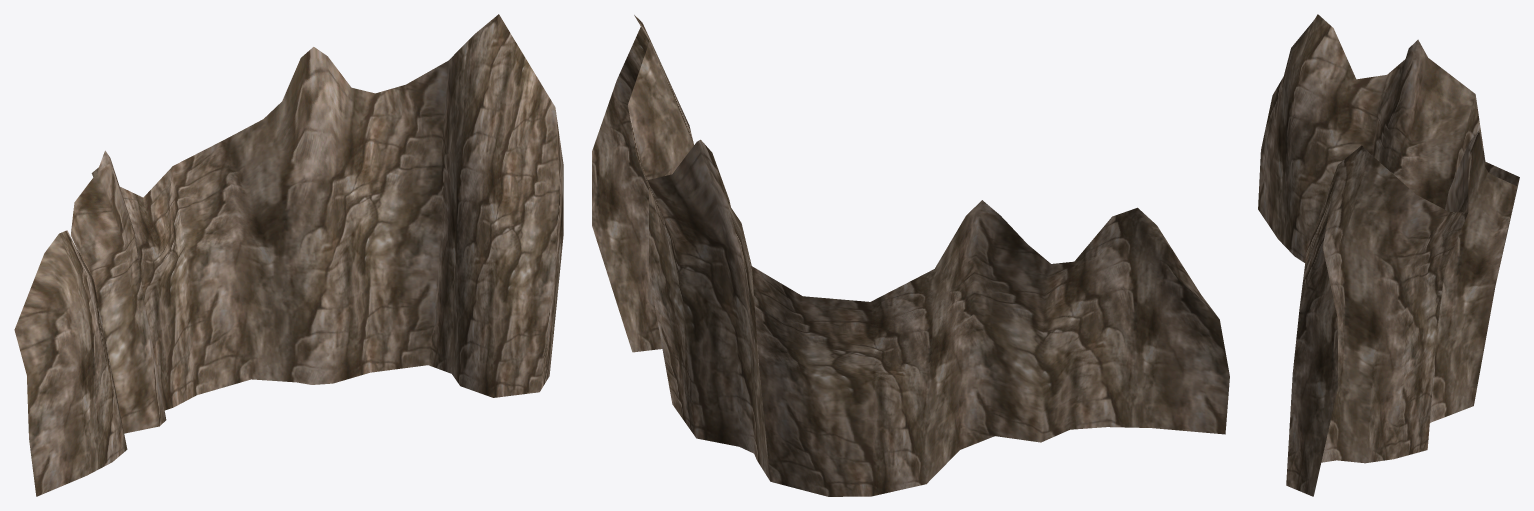
File: OVERHILL_A_01_MOUNTAIN_BACKDROP_01.fbx
3 renders of one model, left to right at view 1: azimuth 30°, elevation 25°; view 2: azimuth 150°, elevation 25°; view 3: azimuth 270°, elevation 25°, orthographic. The views are drawn at different scales.
Parts seen in each view (by area): view 1: OVERHILL_A_01_MOUNTAIN_BACKDROP_01; view 2: OVERHILL_A_01_MOUNTAIN_BACKDROP_01; view 3: OVERHILL_A_01_MOUNTAIN_BACKDROP_01.
Part boxes in pixels (box(x1,y1,x2,y2)): OVERHILL_A_01_MOUNTAIN_BACKDROP_01: box(14, 14, 563, 496); OVERHILL_A_01_MOUNTAIN_BACKDROP_01: box(592, 15, 1229, 496); OVERHILL_A_01_MOUNTAIN_BACKDROP_01: box(1258, 14, 1519, 496).
Bounding box in the file's own units: 314048 × 189837 × 128030.
1 material, 1 textured.
